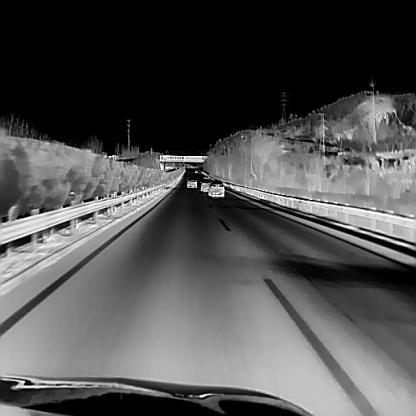car: (208, 180, 224, 196), (200, 175, 211, 191), (185, 176, 197, 187)
